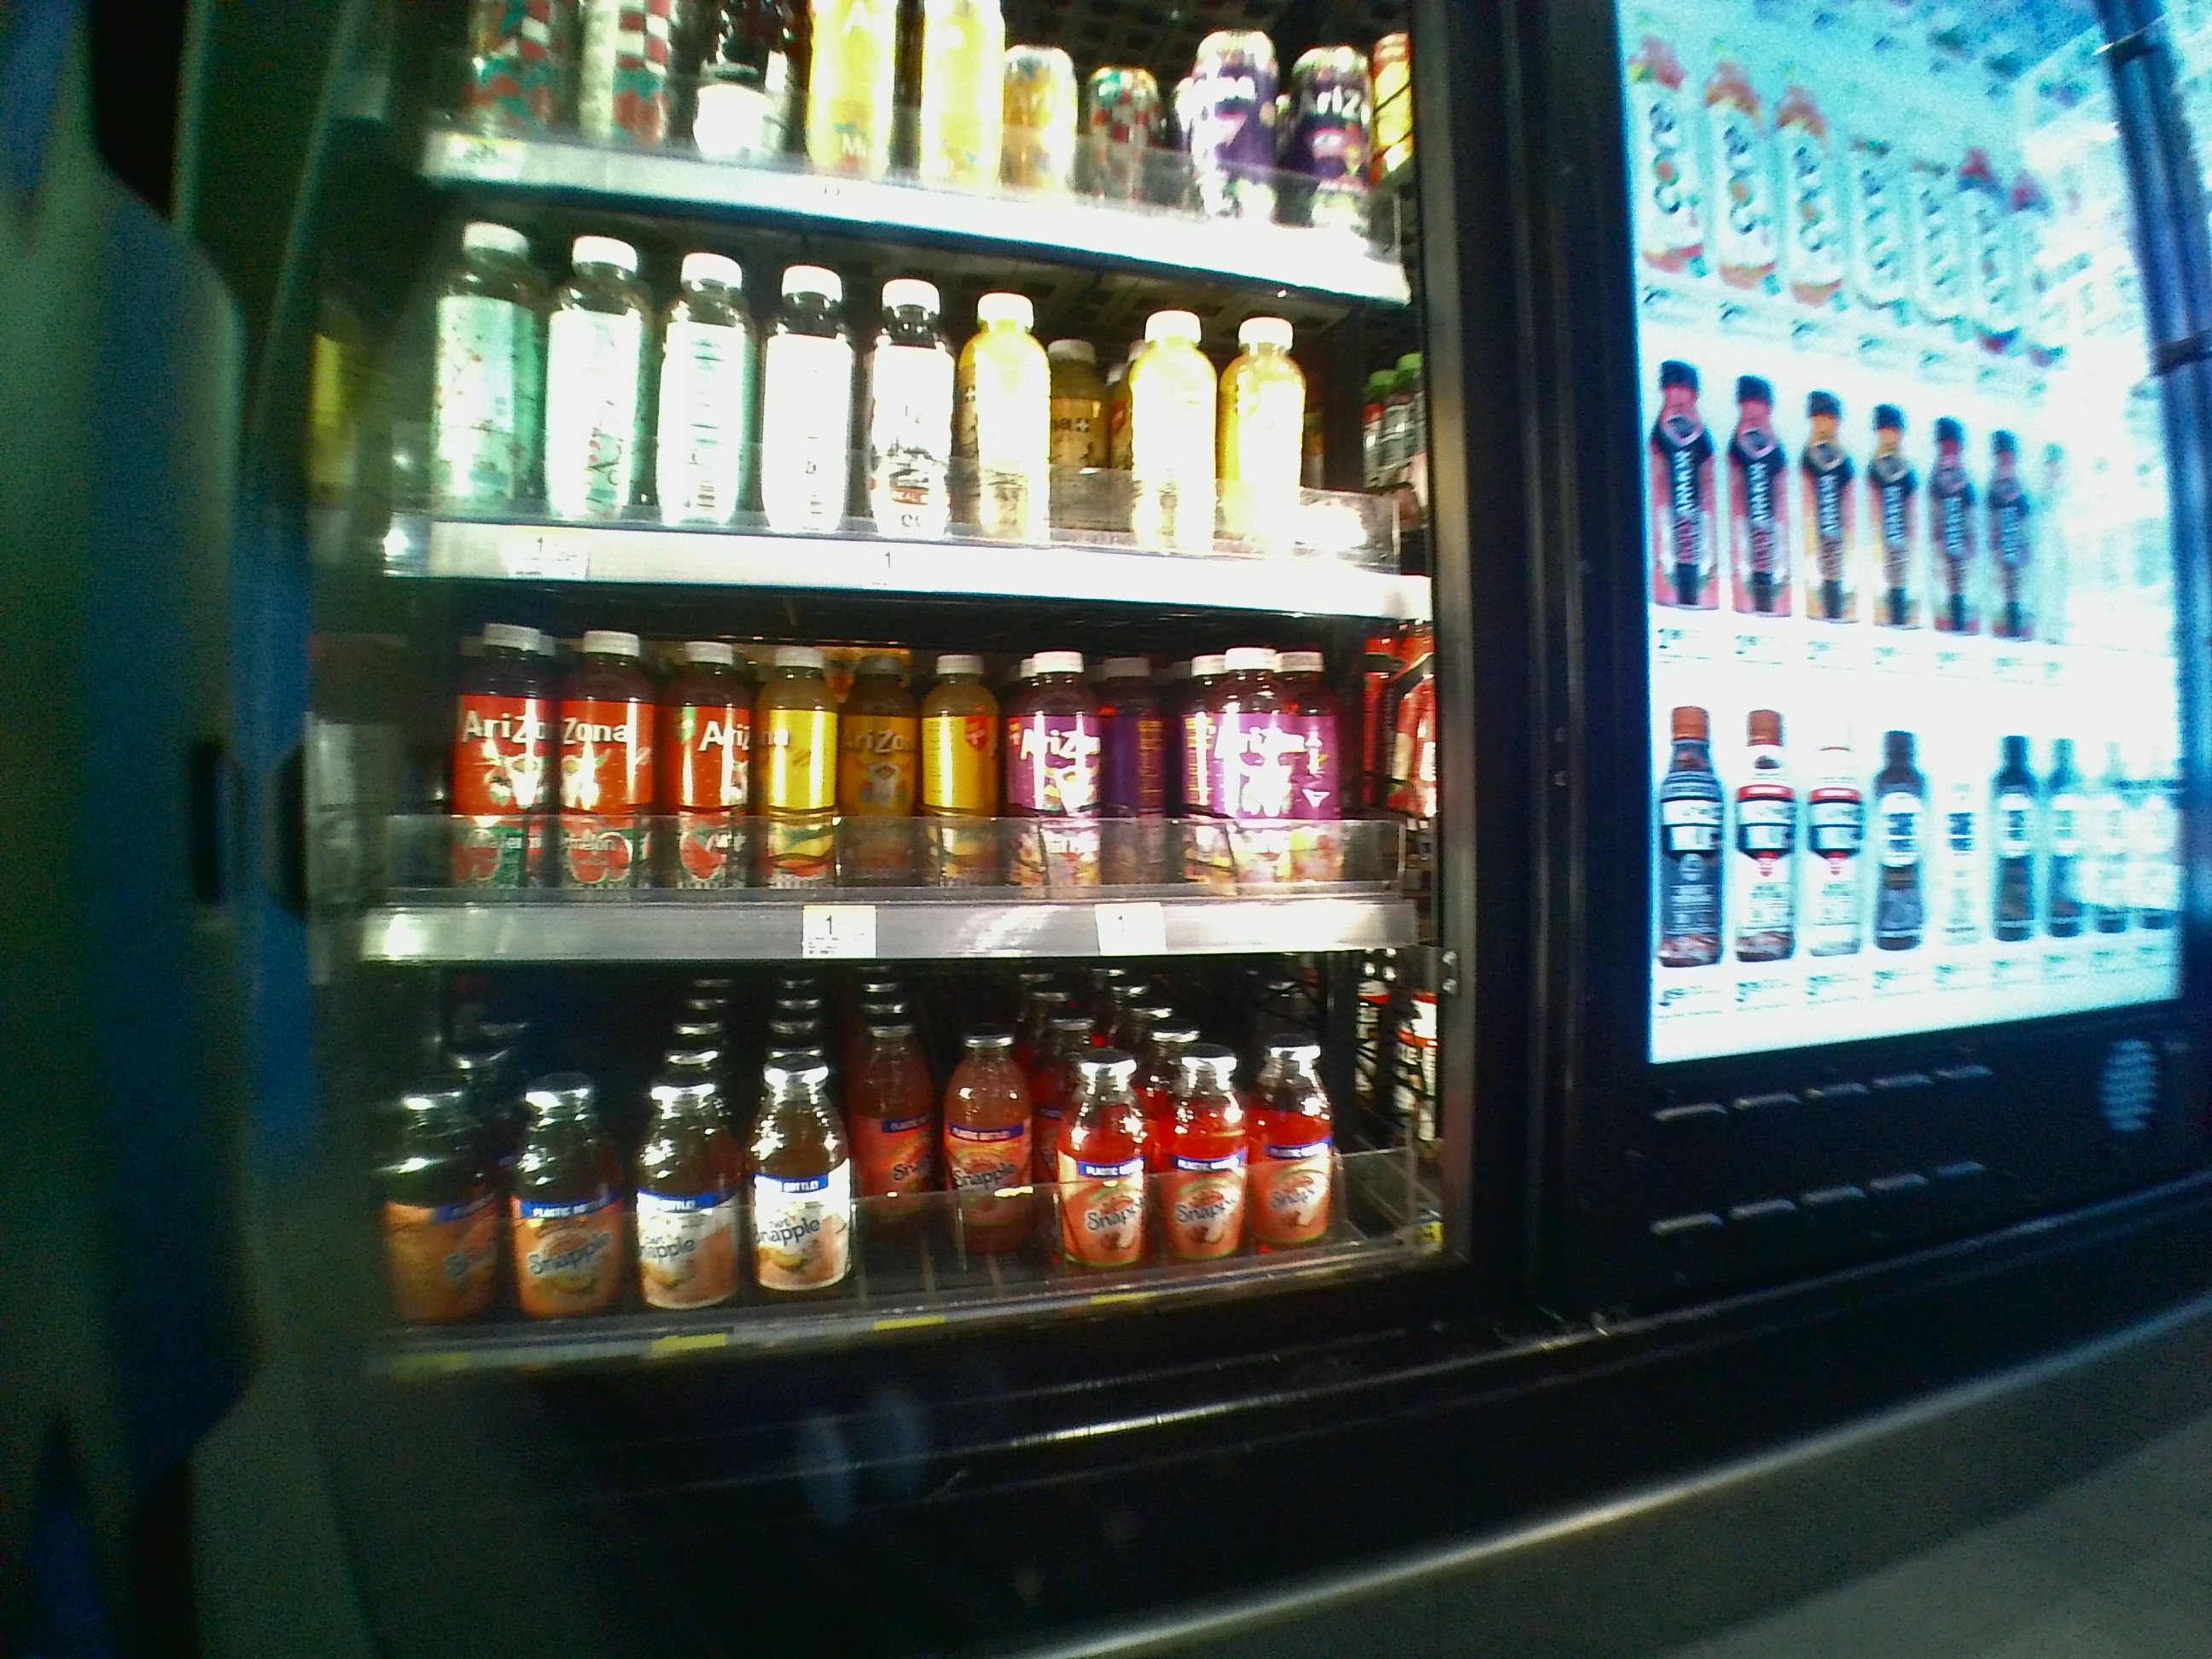shelf: (361, 962, 1451, 1373), (361, 587, 1439, 958)
